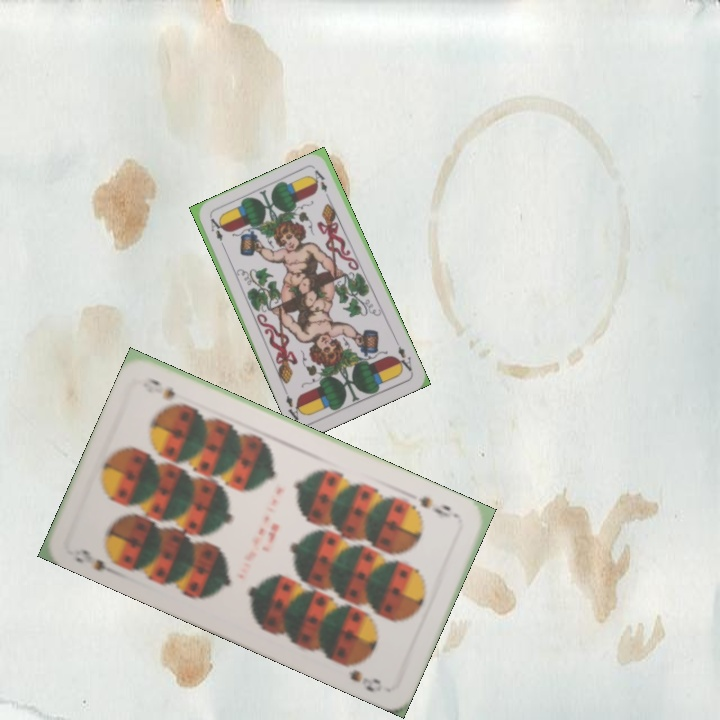EA: (392, 337, 415, 375), (206, 214, 228, 252)
S9: (68, 544, 122, 579), (413, 492, 464, 522)
